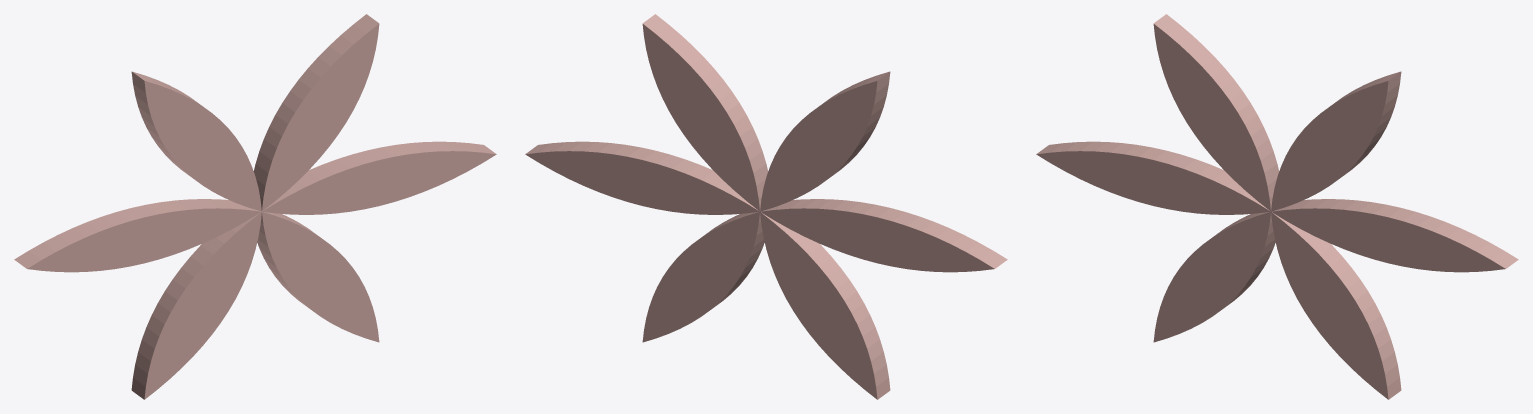
The model's file is flor.glb.
3 views of the same model, side by side, from view 1: azimuth 30°, elevation 25°; view 2: azimuth 150°, elevation 25°; view 3: azimuth 330°, elevation 25° (orthographic).
Visible parts, largest first — view 1: Mesh_Mesh_head_geo.001_lambert2SG.001; view 2: Mesh_Mesh_head_geo.001_lambert2SG.001; view 3: Mesh_Mesh_head_geo.001_lambert2SG.001.
Part boxes in pixels (x1,y1,x2,y2): Mesh_Mesh_head_geo.001_lambert2SG.001: (14,14,496,399); Mesh_Mesh_head_geo.001_lambert2SG.001: (525,14,1007,399); Mesh_Mesh_head_geo.001_lambert2SG.001: (1036,14,1518,399).
Size of the model in its own units: 21 by 13.63 by 1.
